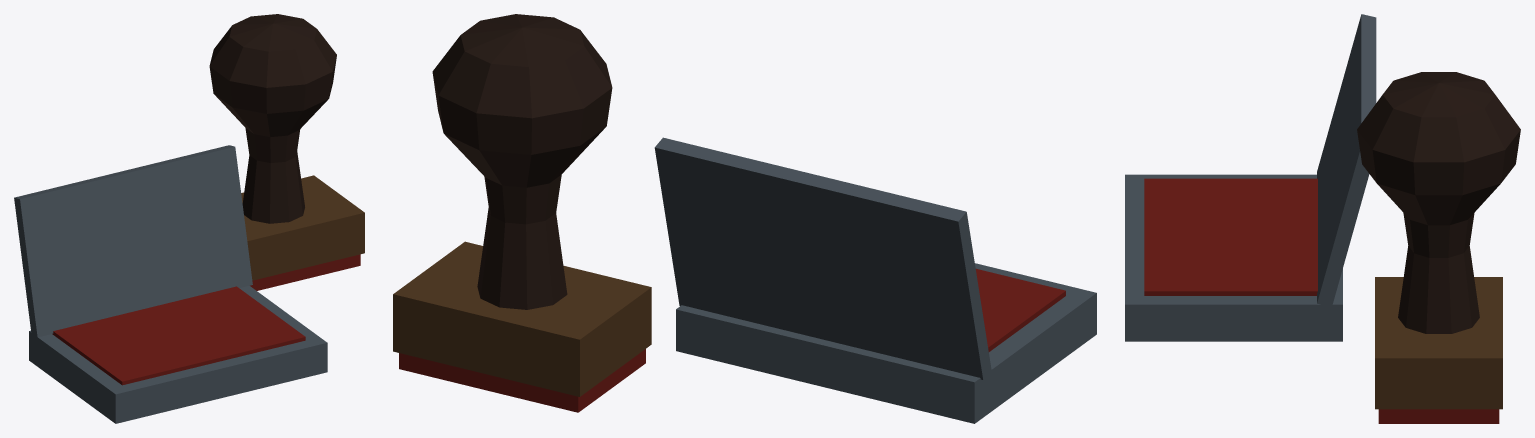
File: stempel.glb
3 renders of one model, left to right at view 1: azimuth 30°, elevation 25°; view 2: azimuth 150°, elevation 25°; view 3: azimuth 270°, elevation 25°, orthographic. The views are drawn at different scales.
Parts seen in each view (by area): view 1: Pad, Stamp; view 2: Pad, Stamp; view 3: Pad, Stamp.
Boxes of the visible parts, bbox=[...] form: Pad: bbox=[14, 145, 327, 423]; Stamp: bbox=[209, 14, 364, 290]; Pad: bbox=[654, 137, 1096, 423]; Stamp: bbox=[393, 14, 651, 412]; Pad: bbox=[1125, 14, 1376, 341]; Stamp: bbox=[1357, 72, 1520, 423].
Bounding box in the file's own units: 0.1985 × 0.13 × 0.1545.
